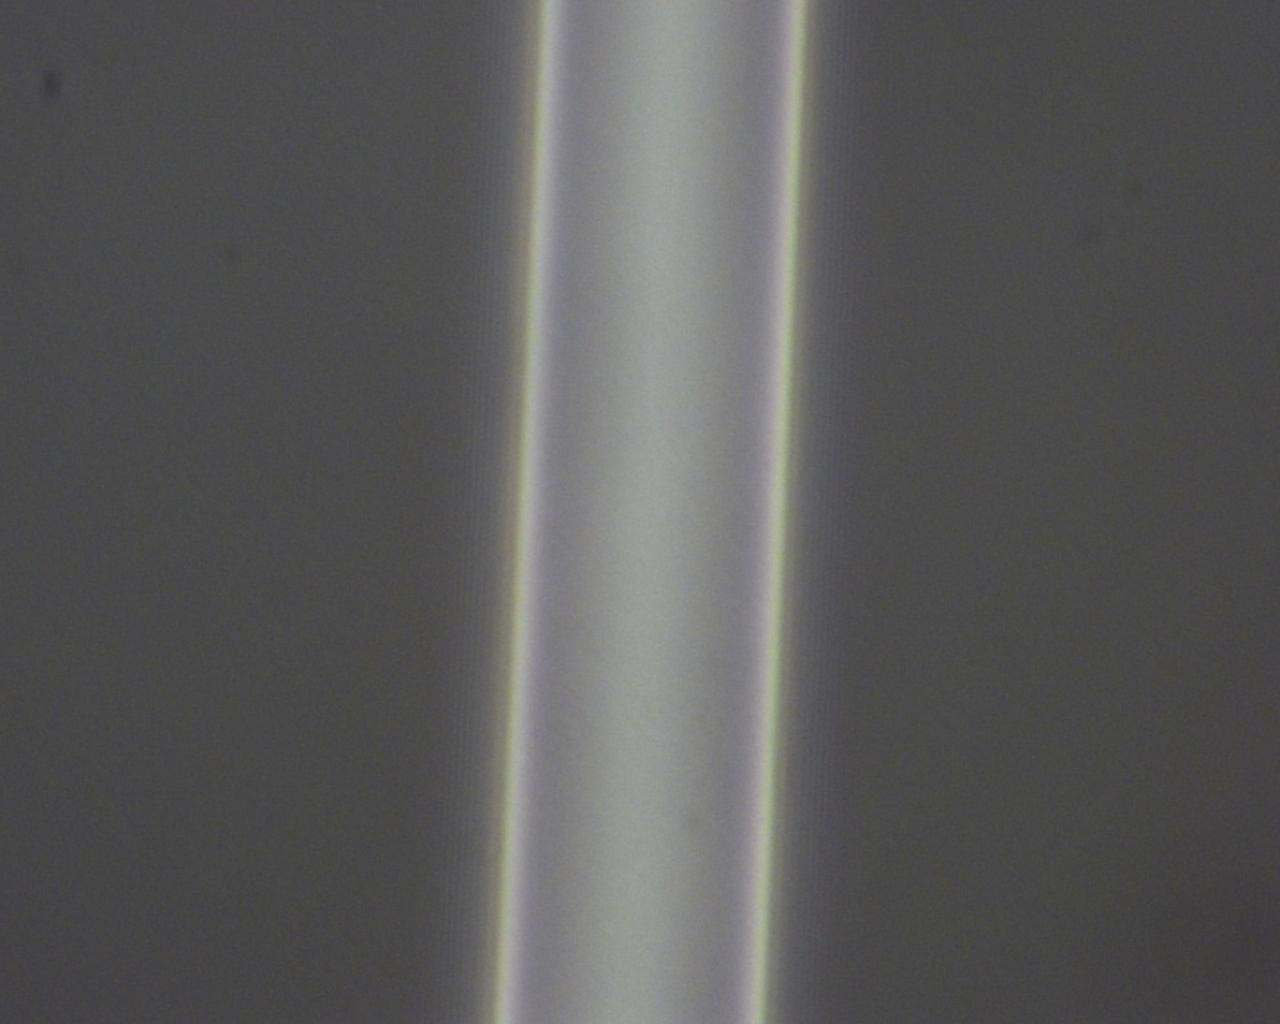fiber: (365, 490, 1280, 858)
